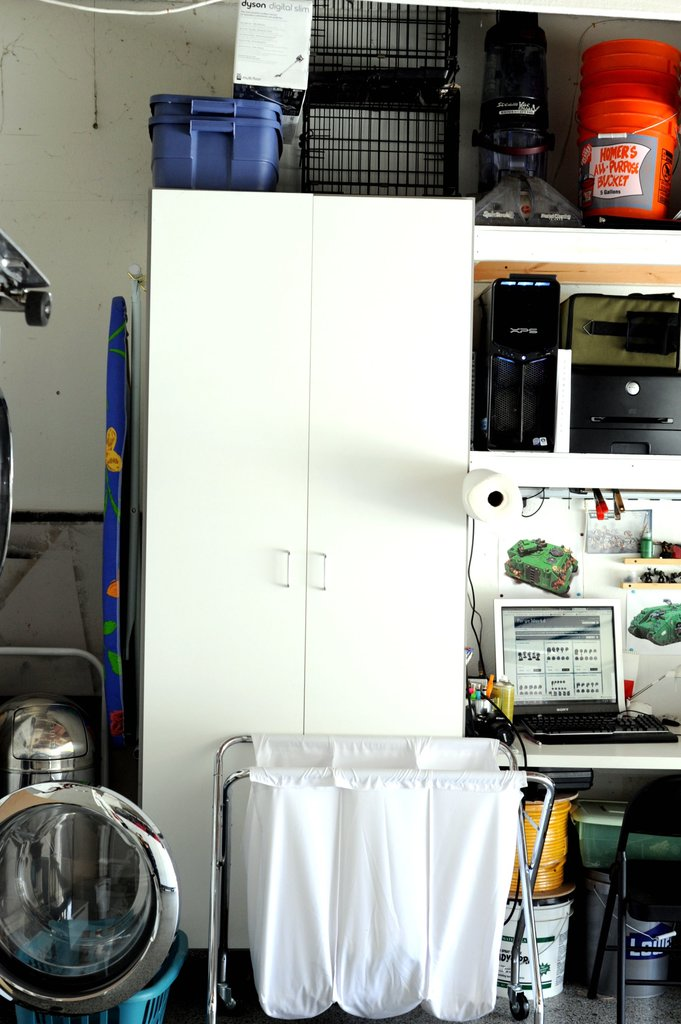Refrigerator: (130, 58, 614, 1014)
